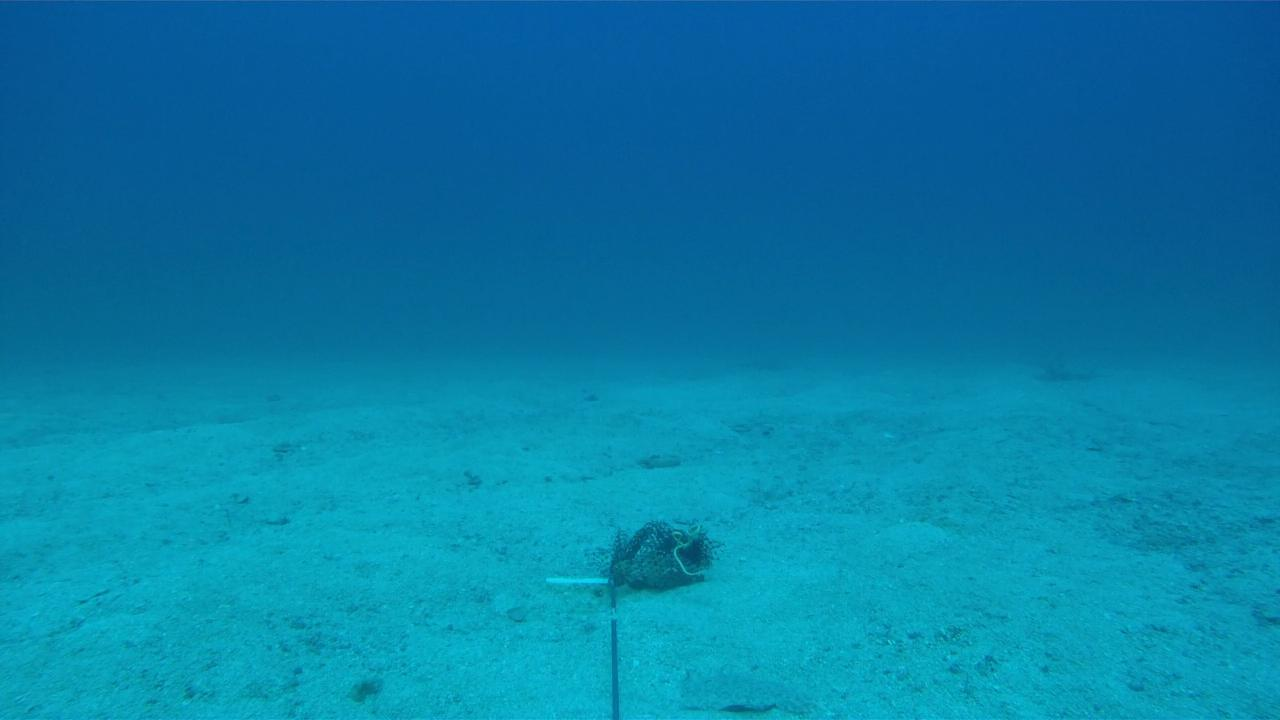bothus: (674, 658, 827, 715)
